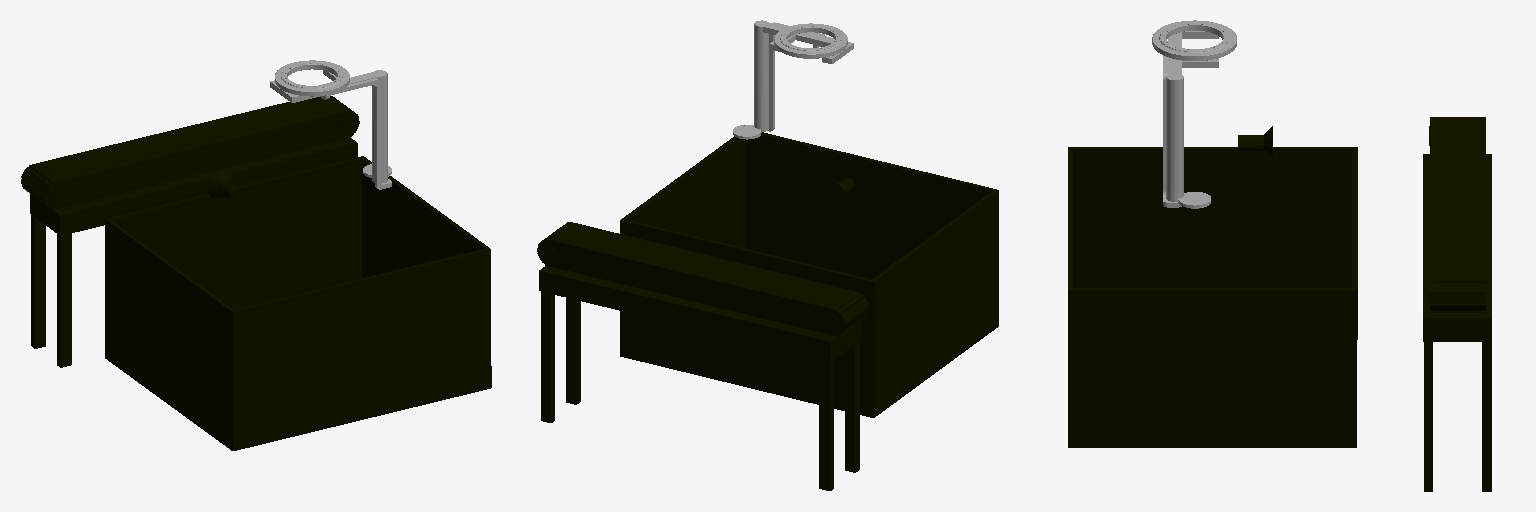
URDF robot description (carbody_ur10_robot):
<?xml version="1.0" encoding="utf-8"?>
<!-- =================================================================================== -->
<!-- |    This document was autogenerated by xacro from robot.urdf.xacro               | -->
<!-- |    EDITING THIS FILE BY HAND IS NOT RECOMMENDED                                 | -->
<!-- =================================================================================== -->
<robot name="carbody_ur10_robot" version="2">
  <!-- Import Rviz colors -->
  <!--<xacro:include filename="$(find ur_description)/urdf/materials.xacro" />-->
  <!-- Create links -->
  <!-- link list-->
  <link name="world"/>
  <joint name="carbody_joint" type="fixed">
    <parent link="world"/>
    <child link="carbody_link"/>
    <origin rpy="0.0 0.0 0.0" xyz="0.0 0.0 0.0"/>
  </joint>
  <link name="carbody_link">
    <visual>
      <geometry>
        <mesh filename="package://pick_and_place_support/meshes/visual/carbody.dae"/>
      </geometry>
      <material name="LightGrey">
        <color rgba="0.7 0.7 0.7 1.0"/>
      </material>
    </visual>
    <collision>
      <geometry>
        <mesh convert="false" filename="package://pick_and_place_support/meshes/collision/carbody.stl"/>
      </geometry>
    </collision>
    <!--<collision_checking>
      <geometry>
        <convex_mesh filename="package://pick_and_place_support/meshes/carbody.stl" convert="false"/>
      </geometry>
    </collision_checking>-->
  </link>
  <joint name="drehkranz_joint" type="revolute">
    <parent link="world"/>
    <child link="drehkranz_link"/>
    <origin rpy="0.0 0.0 0.0" xyz="0.0 0.0 2.35"/>
    <axis xyz="0 0 1"/>
    <limit effort="1000" lower="-6.28" upper="6.28" velocity="20"/>
  </joint>
  <link name="drehkranz_link">
    <visual>
      <origin rpy="0.0 0.0 0.0" xyz="0.02 -0.05 -2.35"/>
      <geometry>
        <mesh filename="package://pick_and_place_support/meshes/visual/drehkranz.dae"/>
      </geometry>
      <material name="LightGrey">
        <color rgba="0.7 0.7 0.7 1.0"/>
      </material>
    </visual>
    <!--<collision>
            <origin xyz="0.02 -0.05 -2.35" rpy="0.0 0.0 0.0" />
            <geometry>
               <mesh filename="package://pick_and_place_support/meshes/drehkranz.stl" convert="false"/>
            </geometry>
         </collision>-->
    <collision_checking>
      <origin rpy="0.0 0.0 0.0" xyz="0.02 -0.05 -2.35"/>
      <geometry>
        <convex_mesh convert="false" filename="package://pick_and_place_support/meshes/collision/drehkranz.stl"/>
      </geometry>
    </collision_checking>
  </link>
  <joint name="base_joint" type="fixed">
    <parent link="drehkranz_link"/>
    <child link="base_link"/>
    <origin rpy="0.0 3.14 0.0" xyz="0.511 0.02 -0.83"/>
  </joint>
  <link name="container_link">
    <visual>
      <origin rpy="3.14 0.0 0.0" xyz="-1 0.95 1.2"/>
      <geometry>
        <mesh filename="package://pick_and_place_support/meshes/visual/container.stl" scale="0.001 0.001 0.001"/>
      </geometry>
      <material name="LightGrey">
        <color rgba="0.1 0.1 0.0 1"/>
      </material>
    </visual>
    <collision>
      <origin rpy="3.14 0.0 0.0" xyz="-1 0.95 1.2"/>
      <geometry>
        <mesh convert="false" filename="package://pick_and_place_support/meshes/collision/container.stl" scale="0.001 0.001 0.001"/>
      </geometry>
    </collision>
    <!--<collision_checking>
           <origin xyz="-1 0.95 1.2" rpy="3.14 0.0 0.0" />
           <geometry>
              <convex_mesh filename="package://pick_and_place_support/meshes/container.stl" scale="0.001 0.001 0.001" convert="false"/>
           </geometry>
      </collision_checking>-->
  </link>
  <joint name="container_joint" type="fixed">
    <parent link="world"/>
    <child link="container_link"/>
    <origin rpy="0.0 0.0 0.0" xyz="0.0 0.0 0.0"/>
  </joint>
  <link name="table_link">
    <visual>
      <origin rpy="0.0 0.0 0.0" xyz="-0.3 2.3 0"/>
      <geometry>
        <mesh filename="package://pick_and_place_support/meshes/visual/table.dae" scale="1.5 1 1.5"/>
      </geometry>
      <material name="LightGrey">
        <color rgba="0.1 0.1 0.0 1"/>
      </material>
    </visual>
    <collision_checking>
      <origin rpy="0.0 0.0 0.0" xyz="-0.3 2.3 0"/>
      <geometry>
        <convex_mesh convert="false" filename="package://pick_and_place_support/meshes/collision/table.stl" scale="1.5 1 1.5"/>
      </geometry>
    </collision_checking>
    <!--<collision>
         <origin xyz="-0.3 2.3 0" rpy="0.0 0.0 0.0" />
         <geometry>
            <mesh filename="package://pick_and_place_support/meshes/table.stl" scale="1.5 1 1.5" convert="false"/>
         </geometry>
    </collision>-->
  </link>
  <joint name="table_world_joint" type="fixed">
    <parent link="world"/>
    <child link="table_link"/>
    <origin rpy="0.0 0.0 0.0" xyz="0.0 0.0 0.0"/>
  </joint>
  <link name="conveyBelt_link">
    <visual>
      <origin rpy="0.0 0.0 0.0" xyz="-0.4 1.65 0.5"/>
      <geometry>
        <mesh filename="package://pick_and_place_support/meshes/visual/conveyBelt.dae" scale="1.5 1.2 1.5"/>
      </geometry>
      <material name="LightGrey">
        <color rgba="0.1 0.1 0.0 1"/>
      </material>
    </visual>
    <!--<collision_checking>
         <origin xyz="-0.4 1.65 0.5" rpy="0.0 0.0 0.0" />
         <geometry>
            <mesh filename="package://pick_and_place_support/meshes/conveyBelt.stl" scale="1.5 1.2 1.5" convert="false"/>
         </geometry>
    </collision_checking>-->
    <collision>
      <origin rpy="0.0 0.0 0.0" xyz="-0.4 1.65 0.5"/>
      <geometry>
        <mesh convert="false" filename="package://pick_and_place_support/meshes/collision/conveyBelt.stl" scale="1.5 1.2 1.5"/>
      </geometry>
    </collision>
  </link>
  <joint name="conveyBelt_table_joint" type="fixed">
    <parent link="table_link"/>
    <child link="conveyBelt_link"/>
    <origin rpy="0.0 0.0 0.0" xyz="0.0 0.0 0.0"/>
  </joint>
  <link name="greifer_link">
    <visual>
      <origin rpy="0.0 0.0 0.0" xyz="-0.35 0.3 0.02"/>
      <geometry>
        <mesh filename="package://pick_and_place_support/meshes/visual/greifer.dae" scale="1 1 1"/>
      </geometry>
      <material name="LightGrey">
        <color rgba="0.1 0.1 0.0 1"/>
      </material>
    </visual>
    <collision_checking>
      <origin rpy="0.0 0.0 0.0" xyz="-0.35 0.3 0.02"/>
      <geometry>
        <mesh convert="false" filename="package://pick_and_place_support/meshes/collision/greifer.stl" scale="1 1 1"/>
      </geometry>
    </collision_checking>
  </link>
  <joint name="greifer_wrist_3_link_joint" type="fixed">
    <parent link="wrist_3_link"/>
    <child link="greifer_link"/>
    <origin rpy="1.57 -0.785 0.0" xyz="0.0 0.3 0.0"/>
  </joint>
  <!--end of link list-->
  <!--
  Author: [author]
  Contributers: [author], [author], [author]
-->
  <!-- measured from model -->
  <link name="base_link">
    <visual>
      <geometry>
        <mesh filename="package://ur_description/meshes/ur10/visual/base.dae"/>
      </geometry>
      <material name="LightGrey">
        <color rgba="0.7 0.7 0.7 1.0"/>
      </material>
    </visual>
    <collision_checking>
      <geometry>
        <mesh convert="false" filename="package://ur_description/meshes/ur10/collision/base.stl"/>
      </geometry>
    </collision_checking>
    <inertial>
      <mass value="4.0"/>
      <origin rpy="0 0 0" xyz="0.0 0.0 0.0"/>
      <inertia ixx="0.0061063308908" ixy="0.0" ixz="0.0" iyy="0.0061063308908" iyz="0.0" izz="0.01125"/>
    </inertial>
  </link>
  <joint name="shoulder_pan_joint" type="revolute">
    <parent link="base_link"/>
    <child link="shoulder_link"/>
    <origin rpy="0.0 0.0 0.0" xyz="0.0 0.0 0.1273"/>
    <axis xyz="0 0 1"/>
    <limit effort="330.0" lower="-6.2831852" upper="6.2831852" velocity="2.16"/>
    <dynamics damping="0.0" friction="0.0"/>
  </joint>
  <link name="shoulder_link">
    <visual>
      <geometry>
        <mesh filename="package://ur_description/meshes/ur10/visual/shoulder.dae"/>
      </geometry>
      <material name="LightGrey">
        <color rgba="0.7 0.7 0.7 1.0"/>
      </material>
    </visual>
    <collision_checking>
      <geometry>
        <mesh convert="false" filename="package://ur_description/meshes/ur10/collision/shoulder.stl"/>
      </geometry>
    </collision_checking>
    <inertial>
      <mass value="7.778"/>
      <origin rpy="0 0 0" xyz="0.0 0.0 0.0"/>
      <inertia ixx="0.0314743125769" ixy="0.0" ixz="0.0" iyy="0.0314743125769" iyz="0.0" izz="0.021875625"/>
    </inertial>
  </link>
  <joint name="shoulder_lift_joint" type="revolute">
    <parent link="shoulder_link"/>
    <child link="upper_arm_link"/>
    <origin rpy="0.0 2.35619449019 0.0" xyz="0.0 0.220941 0.0"/>
    <axis xyz="0 1 0"/>
    <limit effort="330.0" lower="-6.2831852" upper="6.2831852" velocity="2.16"/>
    <dynamics damping="0.0" friction="0.0"/>
  </joint>
  <link name="upper_arm_link">
    <visual>
      <geometry>
        <mesh filename="package://ur_description/meshes/ur10/visual/upperarm.dae"/>
      </geometry>
      <material name="LightGrey">
        <color rgba="0.7 0.7 0.7 1.0"/>
      </material>
    </visual>
    <collision_checking>
      <geometry>
        <mesh convert="false" filename="package://ur_description/meshes/ur10/collision/upperarm.stl"/>
      </geometry>
    </collision_checking>
    <inertial>
      <mass value="12.93"/>
      <origin rpy="0 0 0" xyz="0.0 -0.045 0.306"/>
      <inertia ixx="0.421753803798" ixy="0.0" ixz="0.0" iyy="0.421753803798" iyz="0.0" izz="0.036365625"/>
    </inertial>
  </link>
  <joint name="elbow_joint" type="revolute">
    <parent link="upper_arm_link"/>
    <child link="forearm_link"/>
    <origin rpy="0.0 -1.57079632679 0.0" xyz="0.0 -0.1719 0.612"/>
    <axis xyz="0 1 0"/>
    <limit effort="150.0" lower="-6.2831852" upper="6.2831852" velocity="3.15"/>
    <dynamics damping="0.0" friction="0.0"/>
  </joint>
  <link name="forearm_link">
    <visual>
      <geometry>
        <mesh filename="package://ur_description/meshes/ur10/visual/forearm.dae"/>
      </geometry>
      <material name="LightGrey">
        <color rgba="0.7 0.7 0.7 1.0"/>
      </material>
    </visual>
    <collision_checking>
      <geometry>
        <mesh convert="false" filename="package://ur_description/meshes/ur10/collision/forearm.stl"/>
      </geometry>
    </collision_checking>
    <inertial>
      <mass value="3.87"/>
      <origin rpy="0 0 0" xyz="0.0 0.0 0.28615"/>
      <inertia ixx="0.111069694097" ixy="0.0" ixz="0.0" iyy="0.111069694097" iyz="0.0" izz="0.010884375"/>
    </inertial>
  </link>
  <joint name="wrist_1_joint" type="revolute">
    <parent link="forearm_link"/>
    <child link="wrist_1_link"/>
    <origin rpy="0.0 1.57079632679 0.0" xyz="0.0 0.0 0.5723"/>
    <axis xyz="0 1 0"/>
    <limit effort="54.0" lower="-6.2831852" upper="6.2831852" velocity="3.2"/>
    <dynamics damping="0.0" friction="0.0"/>
  </joint>
  <link name="wrist_1_link">
    <visual>
      <geometry>
        <mesh filename="package://ur_description/meshes/ur10/visual/wrist1.dae"/>
      </geometry>
      <material name="LightGrey">
        <color rgba="0.7 0.7 0.7 1.0"/>
      </material>
    </visual>
    <collision_checking>
      <geometry>
        <mesh convert="false" filename="package://ur_description/meshes/ur10/collision/wrist1.stl"/>
      </geometry>
    </collision_checking>
    <inertial>
      <mass value="1.96"/>
      <origin rpy="0 0 0" xyz="0.0 0.1149 0.0"/>
      <inertia ixx="0.0051082479567" ixy="0.0" ixz="0.0" iyy="0.0051082479567" iyz="0.0" izz="0.0055125"/>
    </inertial>
  </link>
  <joint name="wrist_2_joint" type="revolute">
    <parent link="wrist_1_link"/>
    <child link="wrist_2_link"/>
    <origin rpy="0.0 0.0 0.0" xyz="0.0 0.1149 0.0"/>
    <axis xyz="0 0 1"/>
    <limit effort="54.0" lower="-6.2831852" upper="6.2831852" velocity="3.2"/>
    <dynamics damping="0.0" friction="0.0"/>
  </joint>
  <link name="wrist_2_link">
    <visual>
      <geometry>
        <mesh filename="package://ur_description/meshes/ur10/visual/wrist2.dae"/>
      </geometry>
      <material name="LightGrey">
        <color rgba="0.7 0.7 0.7 1.0"/>
      </material>
    </visual>
    <collision_checking>
      <geometry>
        <mesh convert="false" filename="package://ur_description/meshes/ur10/collision/wrist2.stl"/>
      </geometry>
    </collision_checking>
    <inertial>
      <mass value="1.96"/>
      <origin rpy="0 0 0" xyz="0.0 0.0 0.1157"/>
      <inertia ixx="0.0051082479567" ixy="0.0" ixz="0.0" iyy="0.0051082479567" iyz="0.0" izz="0.0055125"/>
    </inertial>
  </link>
  <joint name="wrist_3_joint" type="revolute">
    <parent link="wrist_2_link"/>
    <child link="wrist_3_link"/>
    <origin rpy="0.0 0.0 0.0" xyz="0.0 0.0 0.1157"/>
    <axis xyz="0 1 0"/>
    <limit effort="54.0" lower="-6.2831852" upper="6.2831852" velocity="3.2"/>
    <dynamics damping="0.0" friction="0.0"/>
  </joint>
  <link name="wrist_3_link">
    <visual>
      <geometry>
        <mesh filename="package://ur_description/meshes/ur10/visual/wrist3.dae"/>
      </geometry>
      <material name="LightGrey">
        <color rgba="0.7 0.7 0.7 1.0"/>
      </material>
    </visual>
    <collision_checking>
      <geometry>
        <mesh convert="false" filename="package://ur_description/meshes/ur10/collision/wrist3.stl"/>
      </geometry>
    </collision_checking>
    <inertial>
      <mass value="0.202"/>
      <origin rpy="1.57079632679 0 0" xyz="0.0 0.07695 0.0"/>
      <inertia ixx="0.000117921661165" ixy="0.0" ixz="0.0" iyy="0.000117921661165" iyz="0.0" izz="0.000204525"/>
    </inertial>
  </link>
  <joint name="ee_fixed_joint" type="fixed">
    <parent link="wrist_3_link"/>
    <child link="ee_link"/>
    <origin rpy="1.57079632679 -0.785398163397 0" xyz="0.0 0.0922 0.0"/>
  </joint>
  <link name="ee_link">
    <collision>
      <geometry>
        <box size="0.01 0.01 0.01"/>
      </geometry>
      <origin rpy="0 0 0" xyz="-0.01 0 0"/>
    </collision>
  </link>
  <transmission name="shoulder_pan_trans">
    <type>transmission_interface/SimpleTransmission</type>
    <joint name="shoulder_pan_joint">
      <hardwareInterface>hardware_interface/PositionJointInterface</hardwareInterface>
    </joint>
    <actuator name="shoulder_pan_motor">
      <mechanicalReduction>1</mechanicalReduction>
    </actuator>
  </transmission>
  <transmission name="shoulder_lift_trans">
    <type>transmission_interface/SimpleTransmission</type>
    <joint name="shoulder_lift_joint">
      <hardwareInterface>hardware_interface/PositionJointInterface</hardwareInterface>
    </joint>
    <actuator name="shoulder_lift_motor">
      <mechanicalReduction>1</mechanicalReduction>
    </actuator>
  </transmission>
  <transmission name="elbow_trans">
    <type>transmission_interface/SimpleTransmission</type>
    <joint name="elbow_joint">
      <hardwareInterface>hardware_interface/PositionJointInterface</hardwareInterface>
    </joint>
    <actuator name="elbow_motor">
      <mechanicalReduction>1</mechanicalReduction>
    </actuator>
  </transmission>
  <transmission name="wrist_1_trans">
    <type>transmission_interface/SimpleTransmission</type>
    <joint name="wrist_1_joint">
      <hardwareInterface>hardware_interface/PositionJointInterface</hardwareInterface>
    </joint>
    <actuator name="wrist_1_motor">
      <mechanicalReduction>1</mechanicalReduction>
    </actuator>
  </transmission>
  <transmission name="wrist_2_trans">
    <type>transmission_interface/SimpleTransmission</type>
    <joint name="wrist_2_joint">
      <hardwareInterface>hardware_interface/PositionJointInterface</hardwareInterface>
    </joint>
    <actuator name="wrist_2_motor">
      <mechanicalReduction>1</mechanicalReduction>
    </actuator>
  </transmission>
  <transmission name="wrist_3_trans">
    <type>transmission_interface/SimpleTransmission</type>
    <joint name="wrist_3_joint">
      <hardwareInterface>hardware_interface/PositionJointInterface</hardwareInterface>
    </joint>
    <actuator name="wrist_3_motor">
      <mechanicalReduction>1</mechanicalReduction>
    </actuator>
  </transmission>
  <gazebo reference="shoulder_link">
    <selfCollide>true</selfCollide>
  </gazebo>
  <gazebo reference="upper_arm_link">
    <selfCollide>true</selfCollide>
  </gazebo>
  <gazebo reference="forearm_link">
    <selfCollide>true</selfCollide>
  </gazebo>
  <gazebo reference="wrist_1_link">
    <selfCollide>true</selfCollide>
  </gazebo>
  <gazebo reference="wrist_3_link">
    <selfCollide>true</selfCollide>
  </gazebo>
  <gazebo reference="wrist_2_link">
    <selfCollide>true</selfCollide>
  </gazebo>
  <gazebo reference="ee_link">
    <selfCollide>true</selfCollide>
  </gazebo>
  <!-- ROS base_link to UR 'Base' Coordinates transform -->
  <link name="base"/>
  <joint name="base_link-base_fixed_joint" type="fixed">
    <!-- NOTE: this rotation is only needed as long as base_link itself is
                 not corrected wrt the real robot (ie: rotated over 180
                 degrees)-->
    <origin rpy="0 0 -3.14159265359" xyz="0 0 0"/>
    <parent link="base_link"/>
    <child link="base"/>
  </joint>
  <!-- Frame coincident with all-zeros TCP on UR controller -->
  <link name="tool0"/>
  <joint name="wrist_3_link-tool0_fixed_joint" type="fixed">
    <origin rpy="-1.57079632679 0 0" xyz="0 0.0922 0"/>
    <parent link="wrist_3_link"/>
    <child link="tool0"/>
  </joint>
  <!-- Include robot -->
</robot>

--- Facts derived from the render (not from the file) ---
3 views of the same robot in one strip: view 1: azimuth 30°, elevation 25°; view 2: azimuth 150°, elevation 25°; view 3: azimuth 270°, elevation 25° (orthographic).
Model carbody_ur10_robot with 17 links and 16 joints (7 revolute, 9 fixed), rooted at world, posed all joints at 0.
Links seen in each view (by area): view 1: container_link, conveyBelt_link, table_link, drehkranz_link, greifer_link; view 2: container_link, table_link, conveyBelt_link, drehkranz_link, greifer_link; view 3: container_link, conveyBelt_link, table_link, drehkranz_link, greifer_link.
Boxes of the visible links, box(x1,y1,x2,y2) form: container_link: box(105, 156, 491, 450); conveyBelt_link: box(21, 96, 359, 209); table_link: box(30, 138, 357, 367); drehkranz_link: box(270, 60, 391, 189); greifer_link: box(208, 171, 242, 203); container_link: box(620, 132, 998, 417); table_link: box(539, 266, 860, 490); conveyBelt_link: box(537, 222, 869, 336); drehkranz_link: box(733, 20, 853, 139); greifer_link: box(820, 177, 854, 208); container_link: box(1068, 147, 1357, 447); conveyBelt_link: box(1429, 117, 1485, 312); table_link: box(1423, 154, 1491, 491); drehkranz_link: box(1152, 20, 1236, 208); greifer_link: box(1238, 126, 1272, 159).
Size in the robot's own frame: 2.37 by 2.44 by 2.37 metres.
Meshes: 13 distinct files referenced, 5 mesh visuals loaded (1 ASCII STL, 4 Collada DAE); not drawn: 8 (reference not matched to a file when rendering).